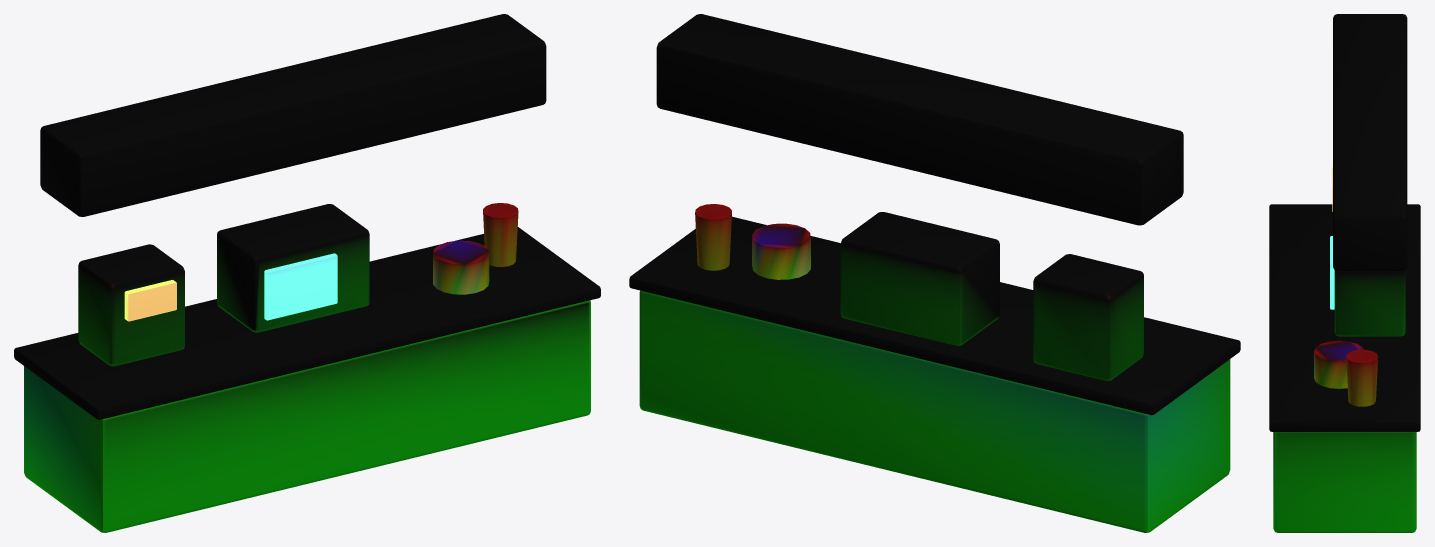
File: hero_kitchen_counter.glb
The picture shows the model from 3 angles, left to right: view 1: azimuth 30°, elevation 25°; view 2: azimuth 150°, elevation 25°; view 3: azimuth 270°, elevation 25°; orthographic projection. The views are drawn at different scales.
Parts seen in each view (by area): view 1: HeroKitchenCounter; view 2: HeroKitchenCounter; view 3: HeroKitchenCounter.
Boxes of the visible parts, x1,y1,x2,y2 form: HeroKitchenCounter: (14, 14, 600, 532); HeroKitchenCounter: (629, 14, 1240, 532); HeroKitchenCounter: (1269, 14, 1420, 532).
Bounding box in the file's own units: 4.52 × 3.03 × 1.32.
